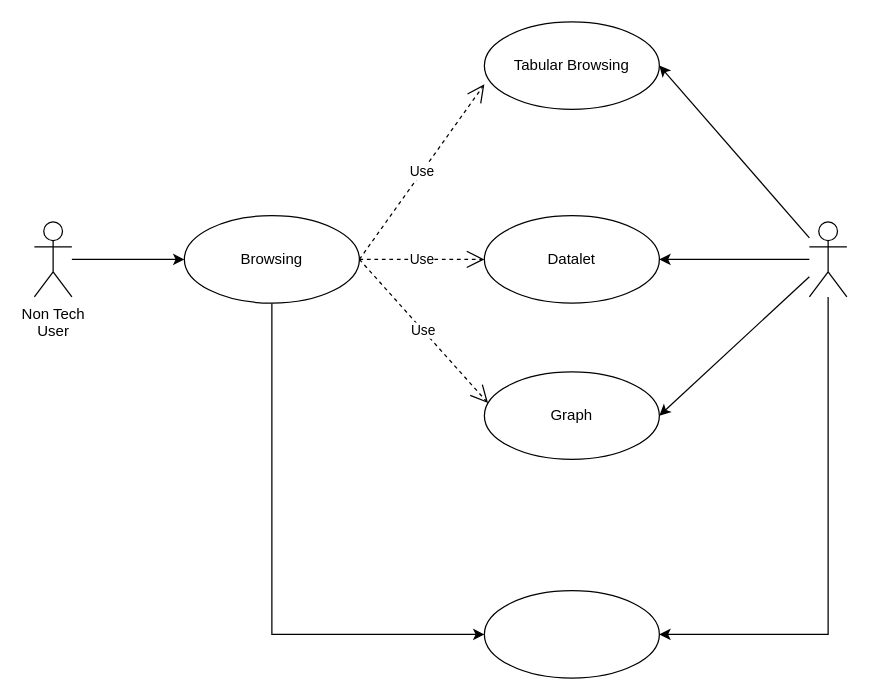
Image size: 884x700. Some labels were removed from this diagram. Here are the shapes that lost their labels. From the top down, the centre of each, then its label:
the point at 827,259: Idra Portal
the point at 571,633: Share / download
